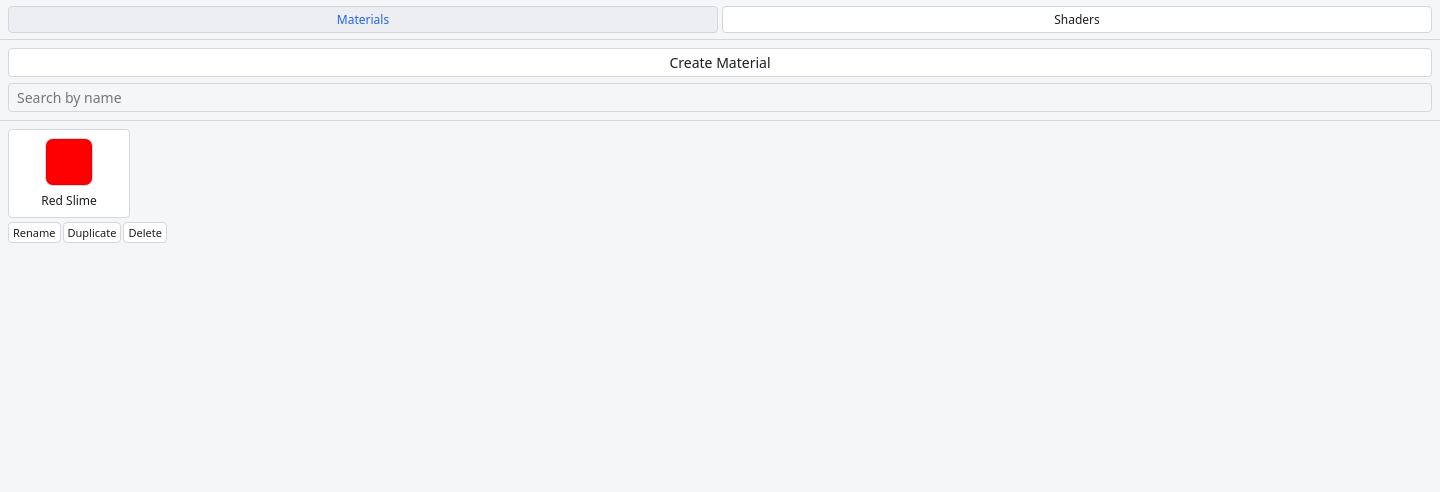
MaterialsPanel › shows a no-match message instead of the empty state when the search filters everything out
The image size is (1440, 492).
Expected: the text "Red Slime" is shown, [41,192,97,209]
In the search field named "Search materials": [720, 98] box [8,83,1432,112], type "zzz"
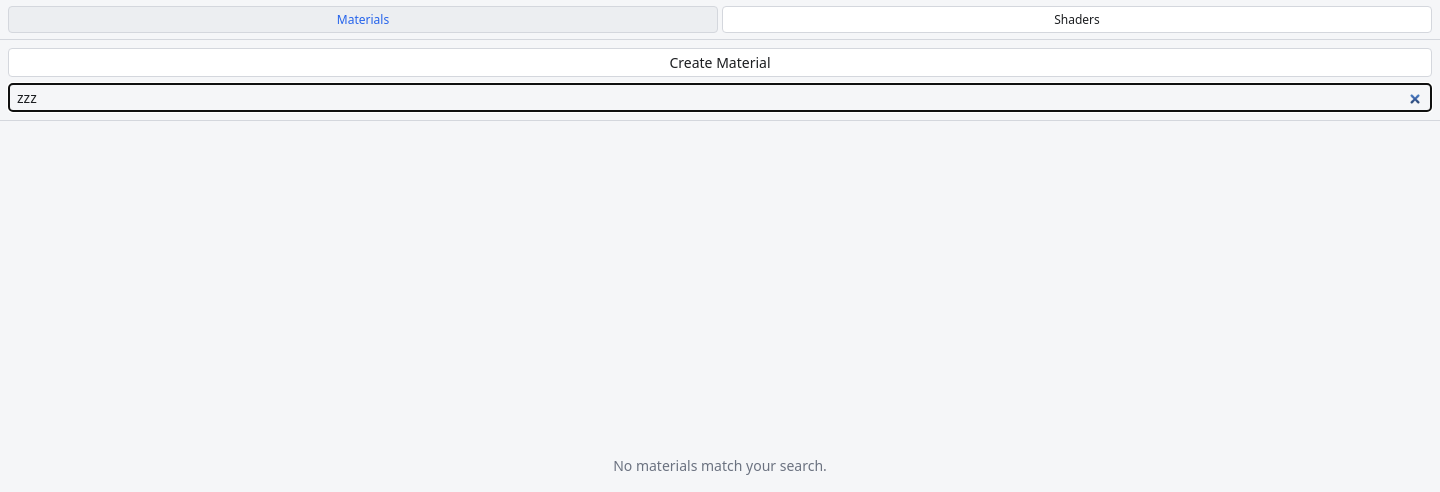
Now the text "No materials match your search." is shown, box [613,456,827,475]
